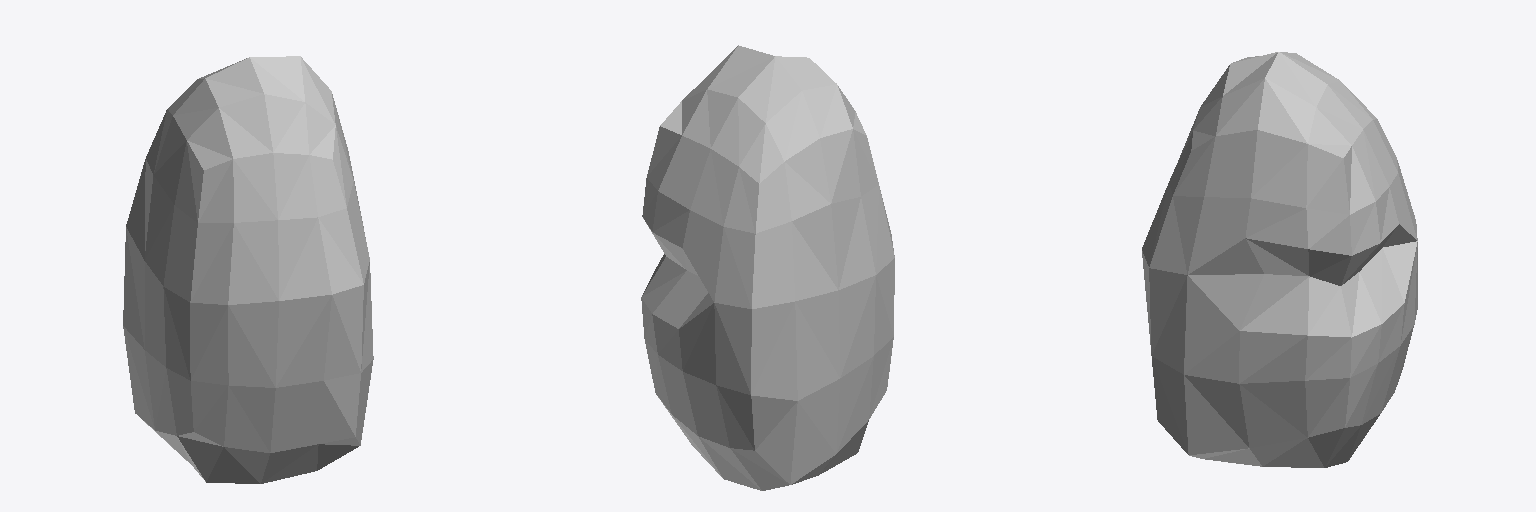
The model's file is rock050.obj.
The picture shows the model from 3 angles: view 1: azimuth 30°, elevation 25°; view 2: azimuth 150°, elevation 25°; view 3: azimuth 270°, elevation 25°; orthographic projection.
Visible parts, largest first — view 1: pCube6; view 2: pCube6; view 3: pCube6.
Boxes of the visible parts, box(x1,y1,x2,y2) form: pCube6: box(123, 56, 373, 483); pCube6: box(641, 45, 894, 490); pCube6: box(1142, 52, 1417, 467).
Size of the model in its own units: 792 by 1515 by 945.